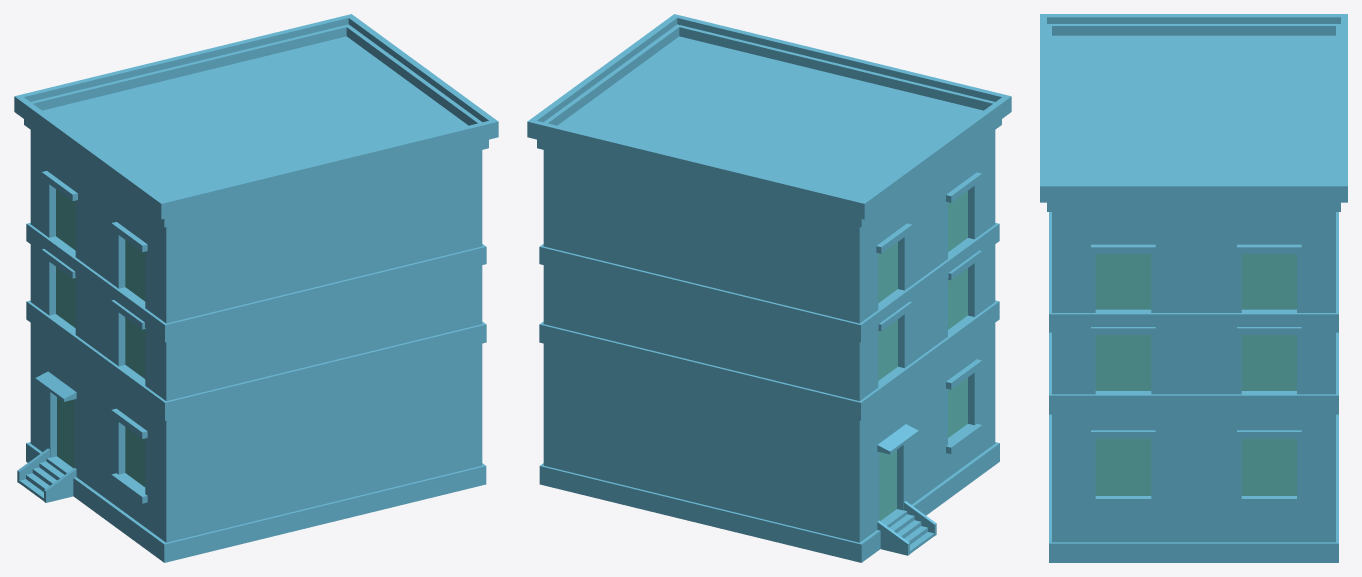
The model's file is BG_sptp_building_09.fbx.
3 views of the same model, side by side, from view 1: azimuth 30°, elevation 25°; view 2: azimuth 150°, elevation 25°; view 3: azimuth 270°, elevation 25° (orthographic). The views are drawn at different scales.
Visible parts, largest first — view 1: sptp_building_09.001; view 2: sptp_building_09.001; view 3: sptp_building_09.001.
Part boxes in pixels (left/top/right/bottom): sptp_building_09.001: left=14, top=14, right=498, bottom=562; sptp_building_09.001: left=527, top=14, right=1011, bottom=562; sptp_building_09.001: left=1040, top=14, right=1347, bottom=562.
Size of the model in its own units: 4.1 by 3.99 by 2.92.
